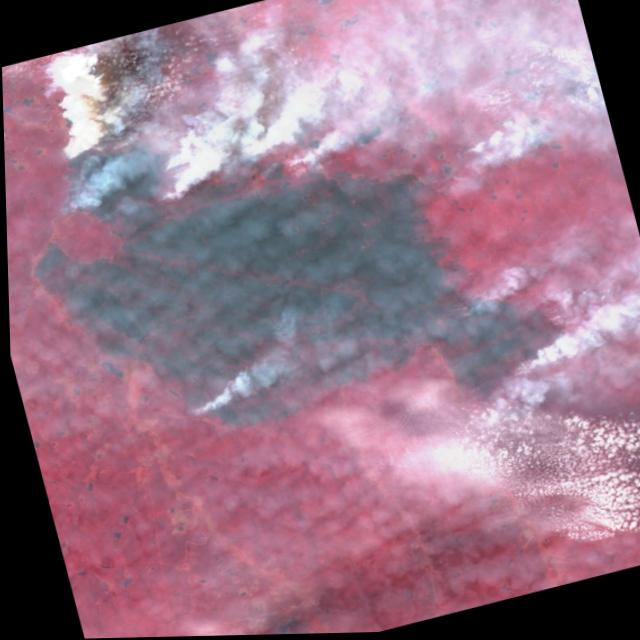fire: (410, 268, 587, 438), (41, 115, 192, 231), (431, 131, 513, 192), (216, 113, 292, 168), (173, 391, 214, 424)
